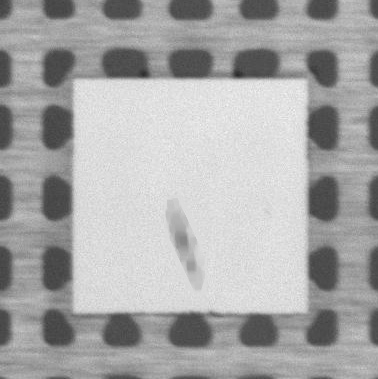DIE_INK: (160, 192, 209, 298)
